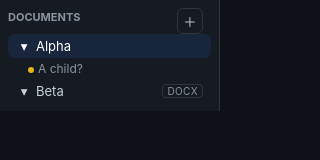
Scenario: TreeSidebar (forest) › expands the active document's subtree by default and collapses on toggle
Check: the text "A child?" is shown, box [38,61,83,76]
Click the button named "Toggle Alpha": (24, 46) [16,38,32,54]
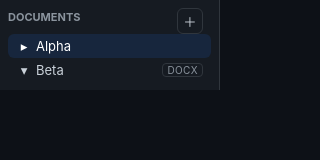
Check: the text "A child?" is gone
